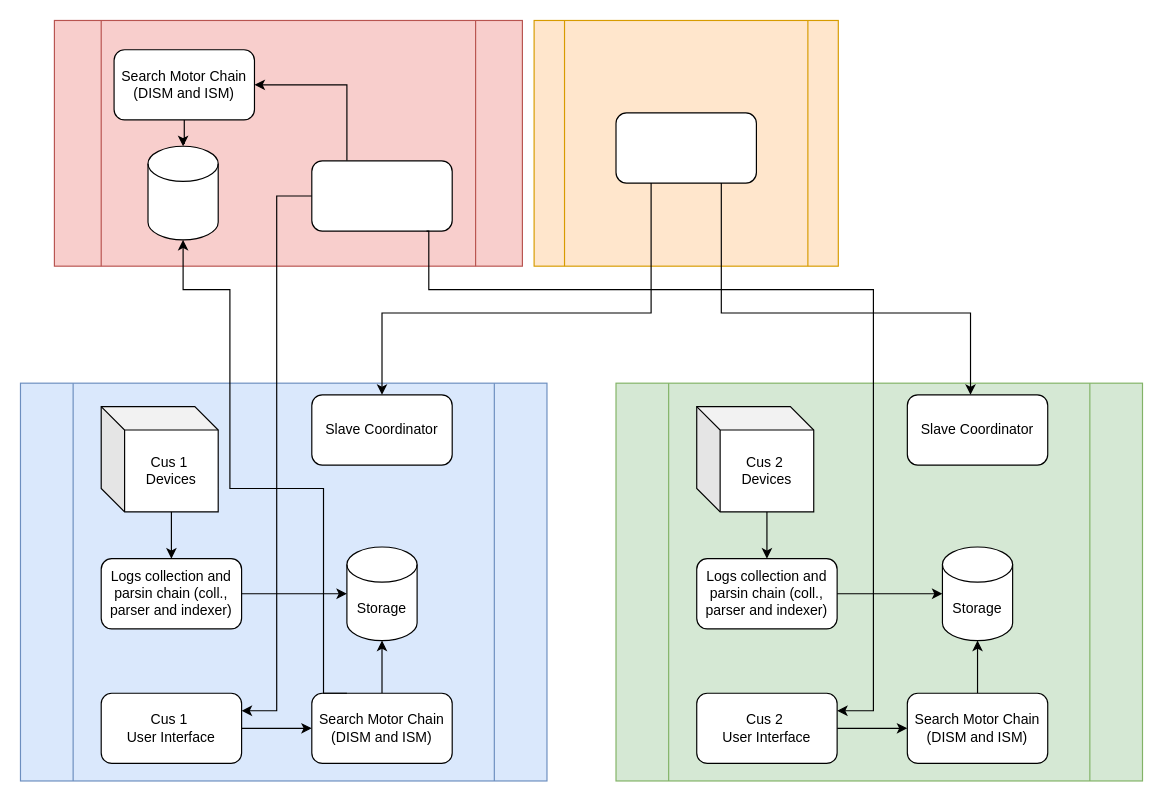
Some shapes in this 1163 by 801 pixel diagram are drawn without their labels. The shapes that lost their labels are listed below. From the top down, each one's centre as x and y in pixels, then its label:
At (x=685, y=147): "Master Coordinator".
At (x=182, y=192): "Copy Cus 1 Storage".
At (x=381, y=195): "SOC User Interface".
